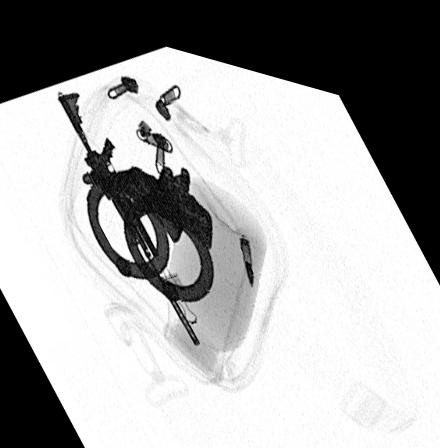Bullet: (239, 222, 254, 273)
Gun: (56, 85, 199, 336)
HandCuffs: (85, 154, 213, 293)
